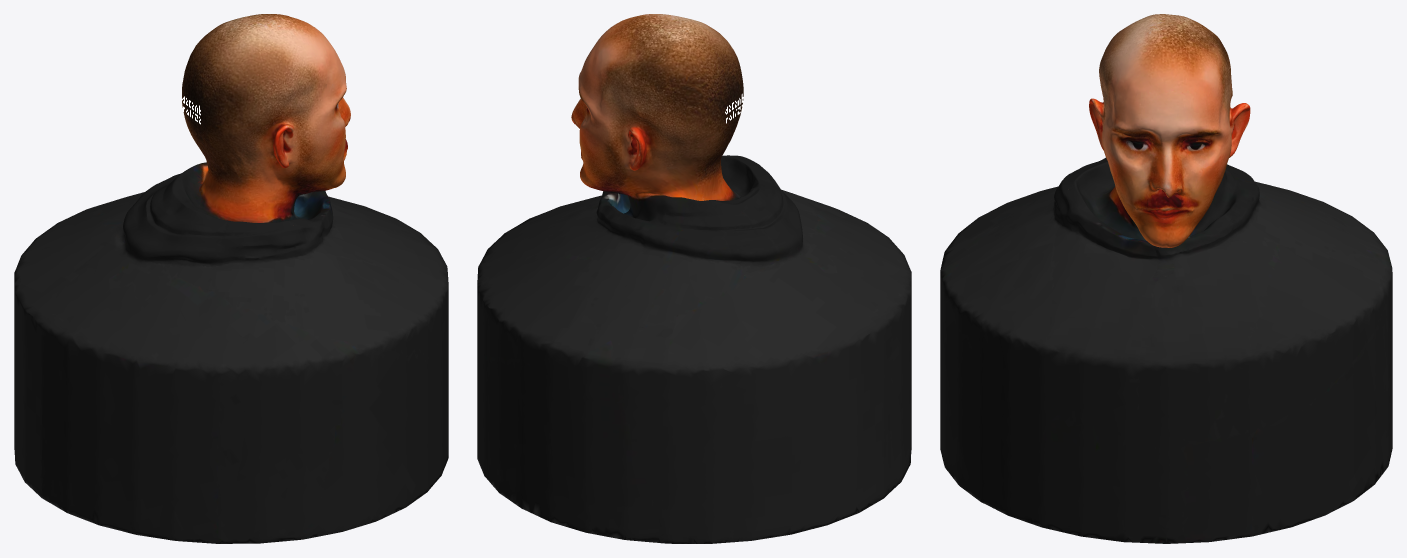
The model's file is decentralize-animation360-opt.glb.
The picture shows the model from 3 angles, left to right: view 1: azimuth 30°, elevation 25°; view 2: azimuth 150°, elevation 25°; view 3: azimuth 270°, elevation 25°; orthographic projection. The views are drawn at different scales.
Parts seen in each view (by area): view 1: tripo_node_b7df0203-1af5-4726-8405-aaec9ad5e29e.001; view 2: tripo_node_b7df0203-1af5-4726-8405-aaec9ad5e29e.001; view 3: tripo_node_b7df0203-1af5-4726-8405-aaec9ad5e29e.001.
Boxes of the visible parts, x1,y1,x2,y2 form: tripo_node_b7df0203-1af5-4726-8405-aaec9ad5e29e.001: (14,14,448,543); tripo_node_b7df0203-1af5-4726-8405-aaec9ad5e29e.001: (477,14,911,543); tripo_node_b7df0203-1af5-4726-8405-aaec9ad5e29e.001: (940,14,1392,543).
Bounding box in the file's own units: 0.9337 × 1 × 0.9349.
2 materials, 2 textured.
